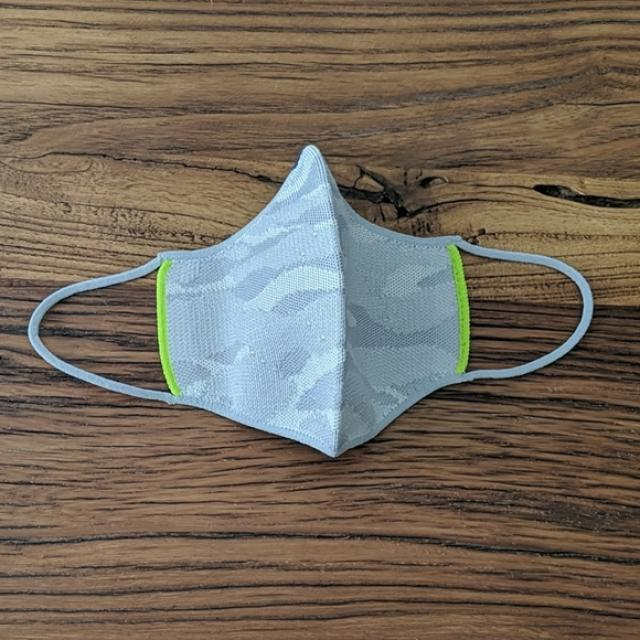face mask: (24, 154, 594, 466)
